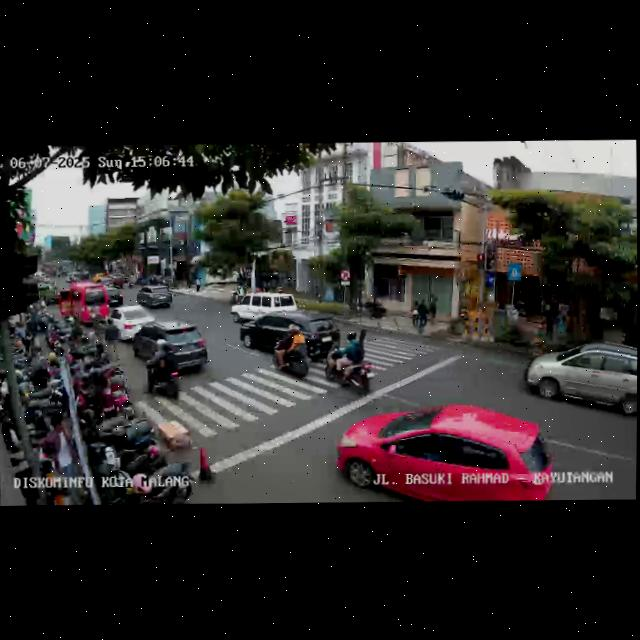car: (337, 403, 556, 504), (524, 337, 638, 423), (239, 308, 340, 362), (131, 319, 211, 374), (56, 281, 108, 328), (233, 290, 297, 326), (107, 304, 156, 342), (136, 284, 173, 311), (104, 286, 124, 306)
motorcycle: (326, 330, 376, 392), (272, 319, 318, 382), (144, 335, 183, 399)
person: (418, 296, 430, 331), (411, 300, 418, 328)
